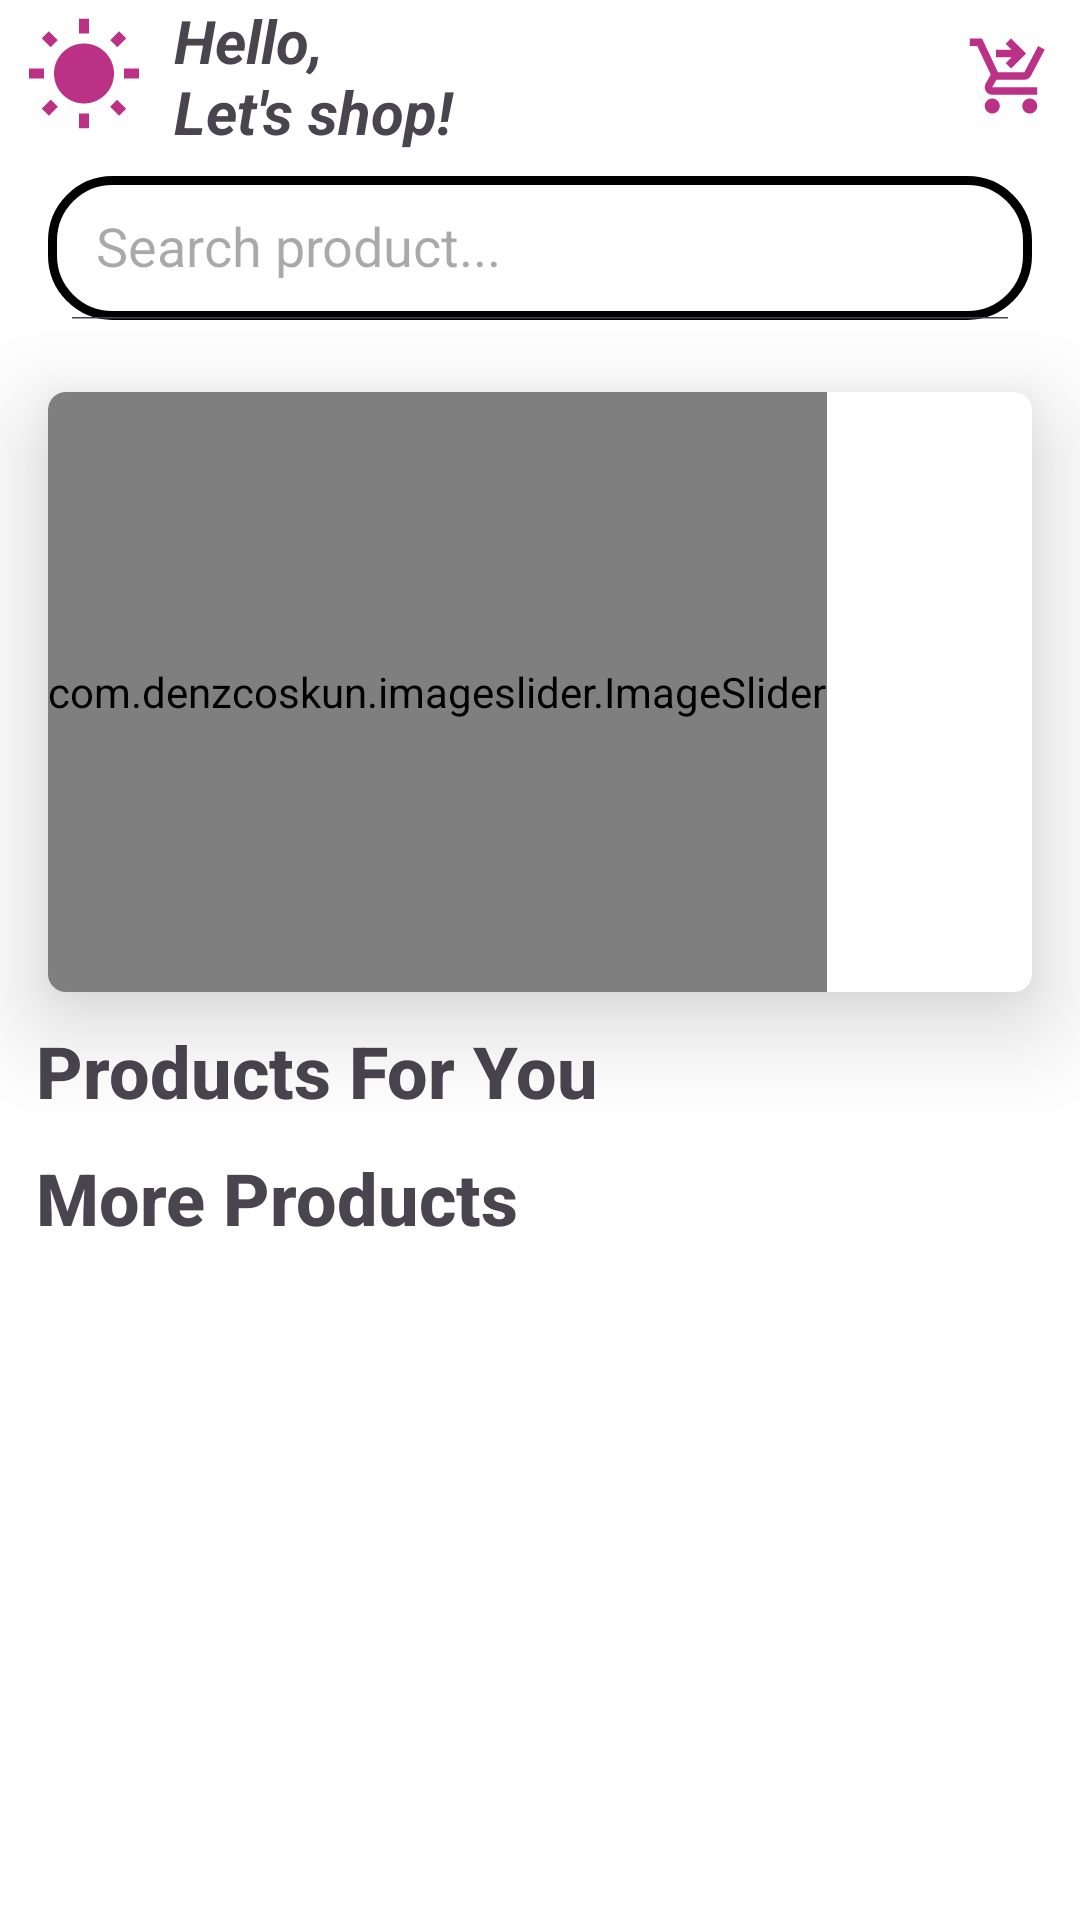

Icon bounding boxes for this 1080×1920 phone screenshot, format (x1, y1, x2, y2):
cart image: (969, 38, 1045, 114)
greeting image: (29, 18, 139, 129)
